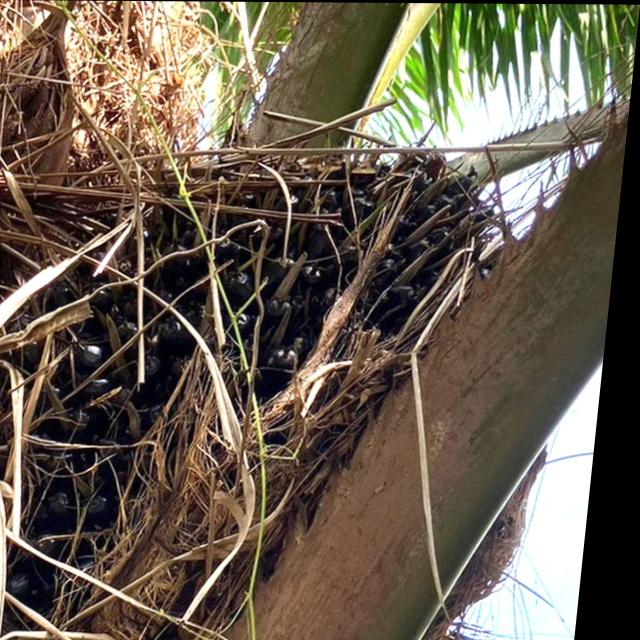unripe: (79, 142, 496, 513)
